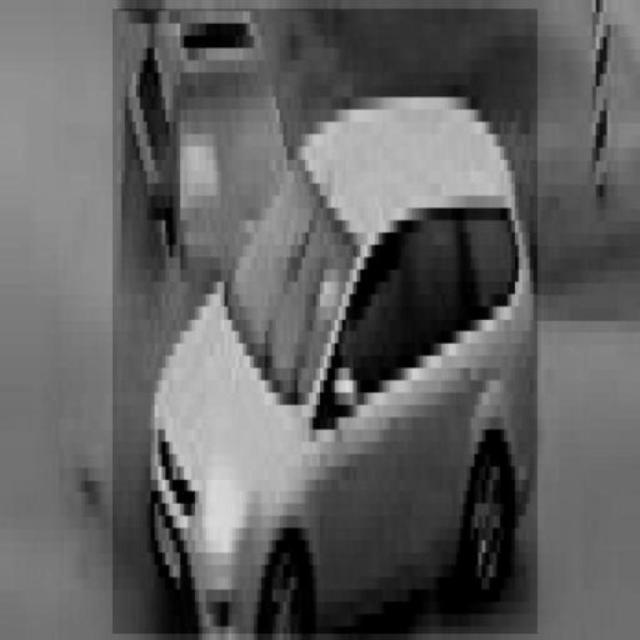accident: (112, 10, 538, 634)
